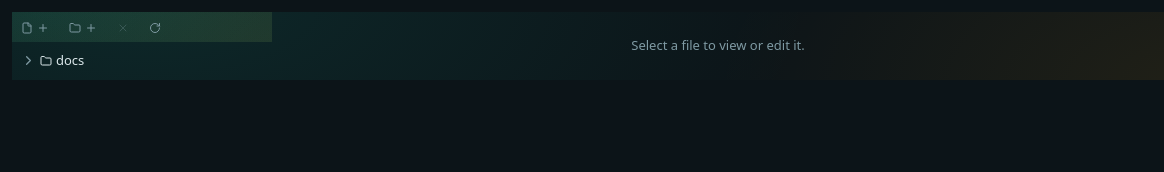
ExplorerView › expands a folder on click without opening anything
Check: the text "docs" is shown, box [56,51,84,69]
Click the button with test id "explorer-item" at (28, 61), box [12,44,272,76]
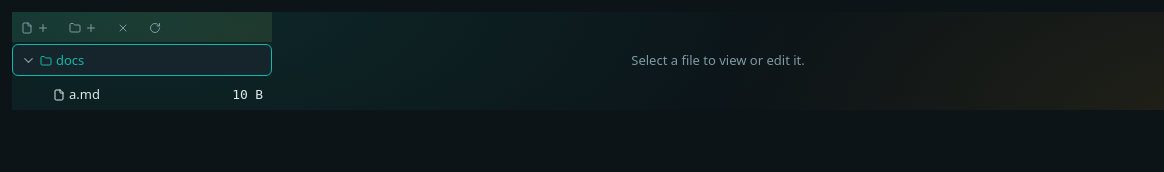
Check: the text "a.md" is shown, box [69,85,100,103]
Check: the button with test id "explorer-item" is expanded, box [12,44,272,76]
